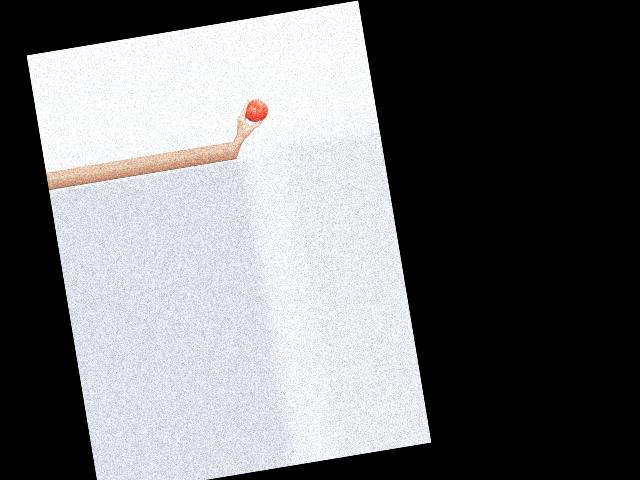tomato: (244, 97, 269, 122)
